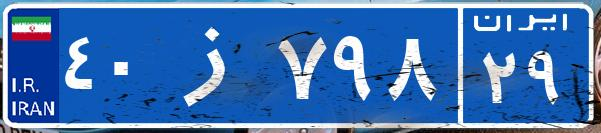0: (110, 28, 158, 105)
2: (475, 38, 525, 113)
4: (57, 26, 110, 107)
7: (273, 28, 330, 110)
8: (385, 28, 445, 110)
9: (330, 28, 385, 110), (525, 38, 570, 115)
ز: (158, 15, 273, 115)
